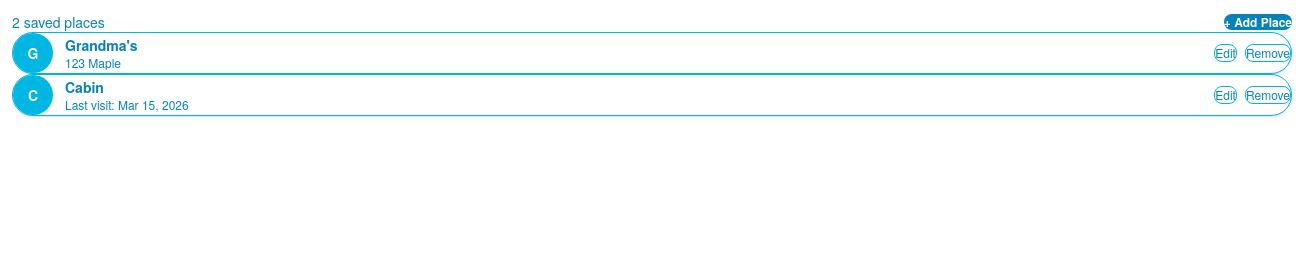
Test: PlacesManager › submits edit form and updates the place
Click the button with test id "edit-place-btn" in the row of "Grandma's". click: (1226, 53)
box: [1214,44,1237,62]
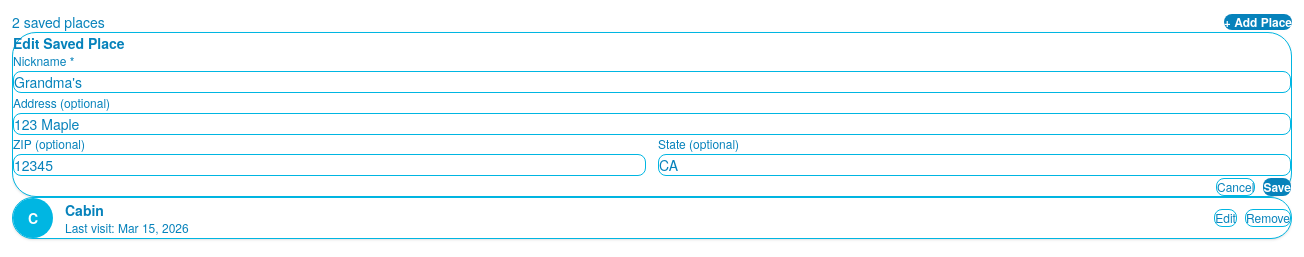
Replace the text in the field with test id "edit-place-nickname-input" with "Grandma House". click: (652, 82)
box: [13,71,1291,93]
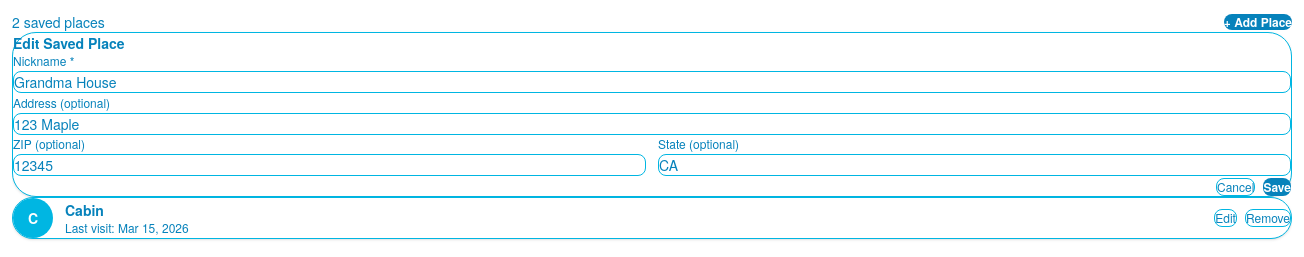
Click the button with test id "edit-place-save-btn". click: (1277, 187)
box: [1263,178,1291,196]
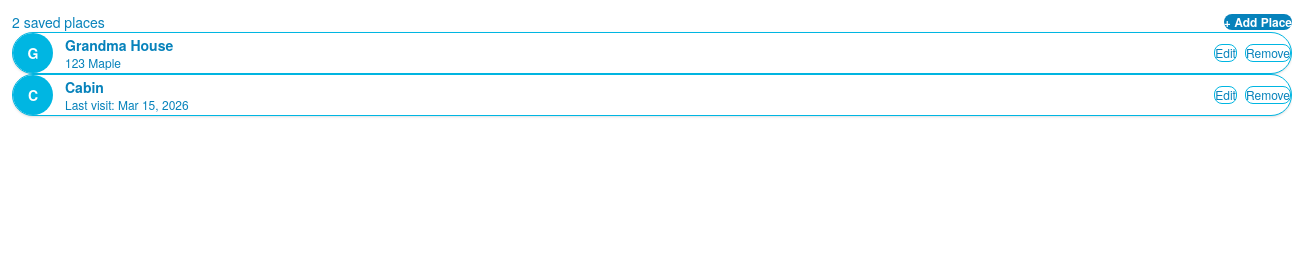
Result: the form with test id "edit-place-form" is gone
Result: the text "Grandma House" is shown at [65,35,173,55]
